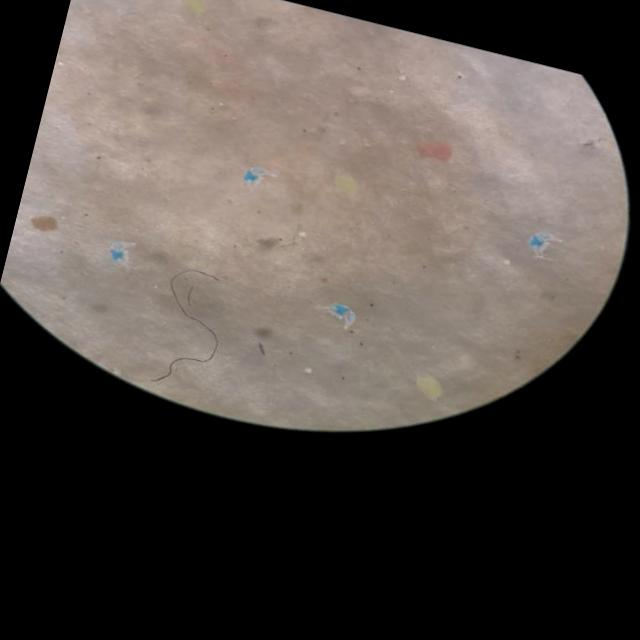fiber: (150, 271, 218, 383)
film: (332, 306, 355, 328), (530, 233, 556, 242), (246, 168, 265, 175)
fragment: (417, 144, 452, 161), (418, 375, 443, 398), (336, 175, 358, 195), (32, 216, 57, 232)
pellet: (398, 74, 406, 81), (305, 367, 312, 373), (299, 232, 305, 237), (503, 260, 509, 265)
